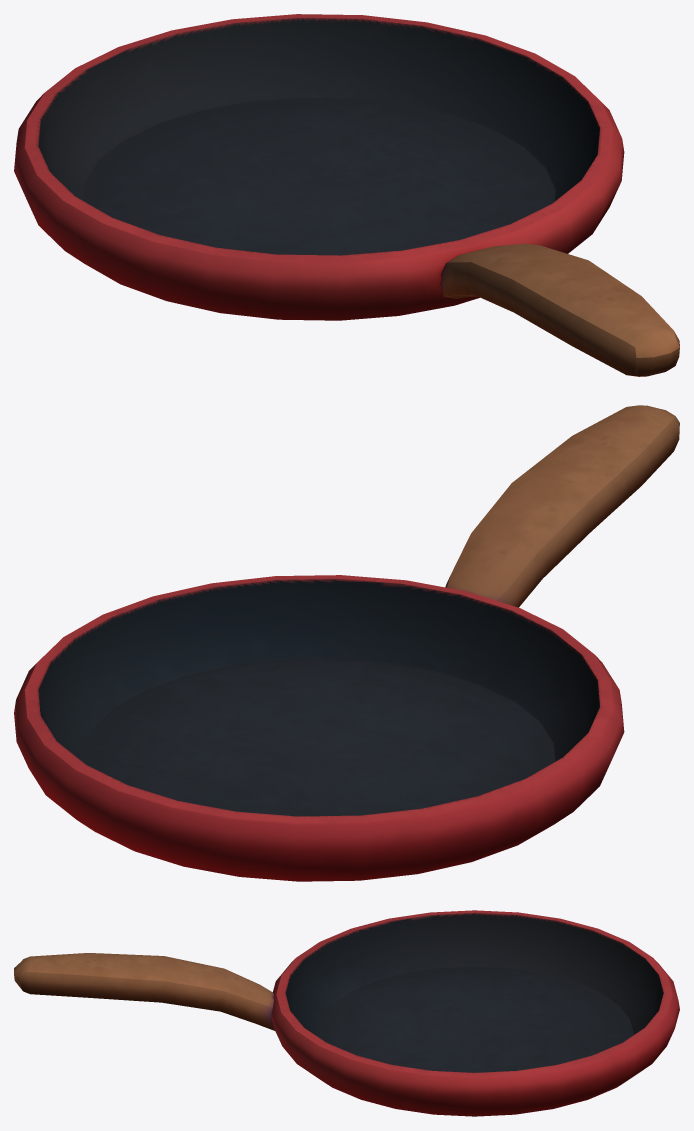
File: FryPan.fbx
3 renders of one model, top to bottom at view 1: azimuth 30°, elevation 25°; view 2: azimuth 150°, elevation 25°; view 3: azimuth 270°, elevation 25°, orthographic. The views are drawn at different scales.
Visible parts, largest first — view 1: FryPan.Base; view 2: FryPan.Base; view 3: FryPan.Base.
Part boxes in pixels (x1=…): FryPan.Base: x1=14, y1=14, x2=679, y2=376; FryPan.Base: x1=14, y1=405, x2=679, y2=881; FryPan.Base: x1=14, y1=910, x2=679, y2=1116.
Size of the model in its own units: 62.59 by 13.28 by 101.
